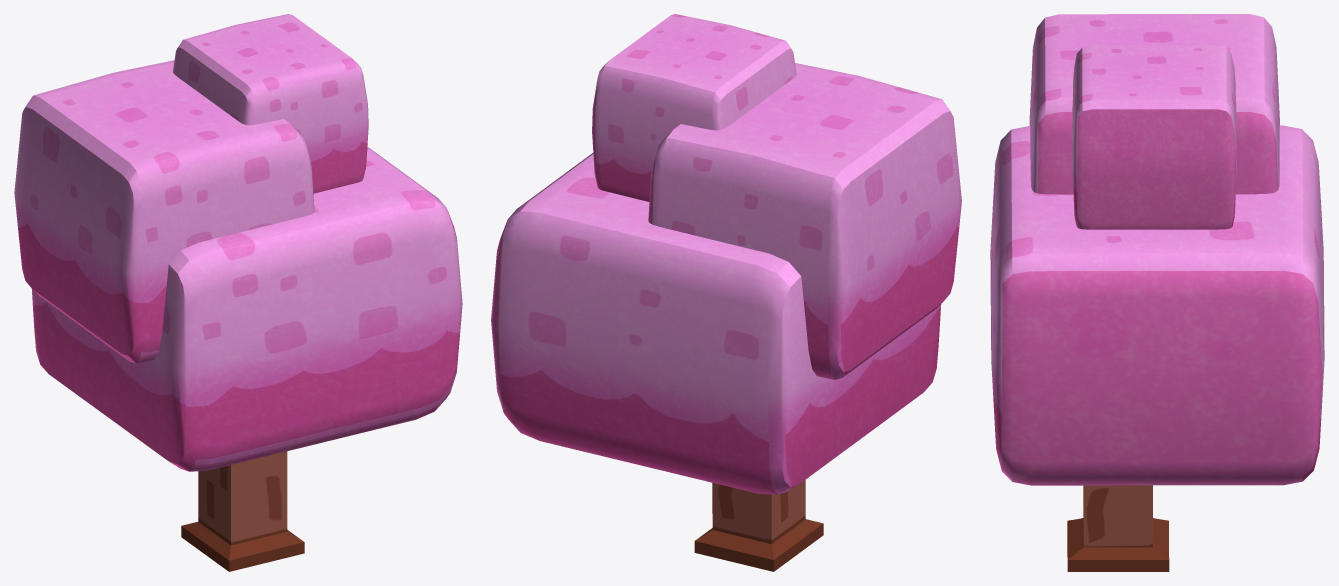
Rendered from title_tree_01.fbx.
3 renders of one model, left to right at view 1: azimuth 30°, elevation 25°; view 2: azimuth 150°, elevation 25°; view 3: azimuth 270°, elevation 25°, orthographic. The views are drawn at different scales.
Visible parts, largest first — view 1: leaf04, leaf01, leaf05, Tree_trunk01; view 2: leaf04, leaf01, leaf05, Tree_trunk01; view 3: leaf04, leaf05, leaf01, Tree_trunk01.
Part boxes in pixels (box(x1,y1,x2,y2)): leaf04: box(32, 147, 462, 471); leaf01: box(14, 60, 314, 363); leaf05: box(173, 14, 368, 193); Tree_trunk01: box(181, 451, 304, 571); leaf04: box(491, 153, 941, 494); leaf01: box(648, 63, 961, 379); leaf05: box(592, 14, 796, 201); Tree_trunk01: box(694, 480, 823, 571); leaf04: box(990, 125, 1324, 485); leaf05: box(1072, 45, 1236, 229); leaf01: box(1029, 14, 1279, 194); Tree_trunk01: box(1067, 485, 1169, 571).
Bounding box in the file's own units: 2.59 × 3.61 × 2.16.
